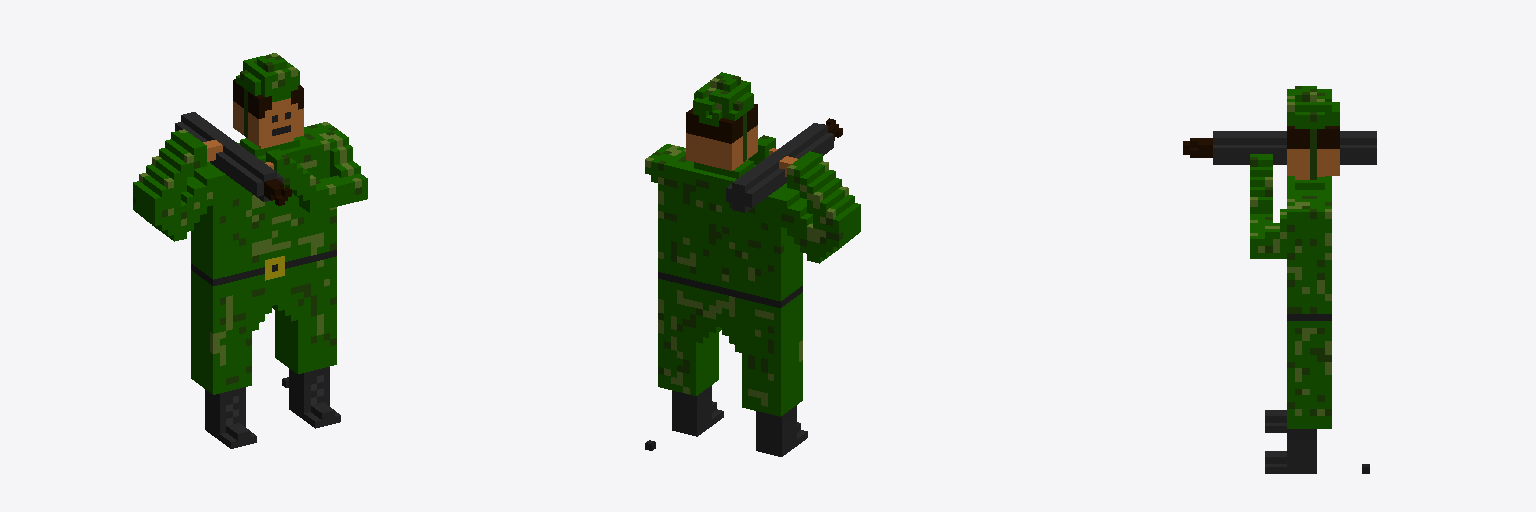
The picture shows the model from 3 angles: view 1: azimuth 30°, elevation 25°; view 2: azimuth 150°, elevation 25°; view 3: azimuth 270°, elevation 25°; orthographic projection.
Parts seen in each view (by area): view 1: object 1; view 2: object 1; view 3: object 1.
Boxes of the visible parts, x1,y1,x2,y2 form: object 1: [133, 53, 367, 448]; object 1: [645, 72, 860, 456]; object 1: [1183, 86, 1376, 473].
Bounding box in the file's own units: 3 × 5.3 × 2.6.
1 materials, 1 textured.